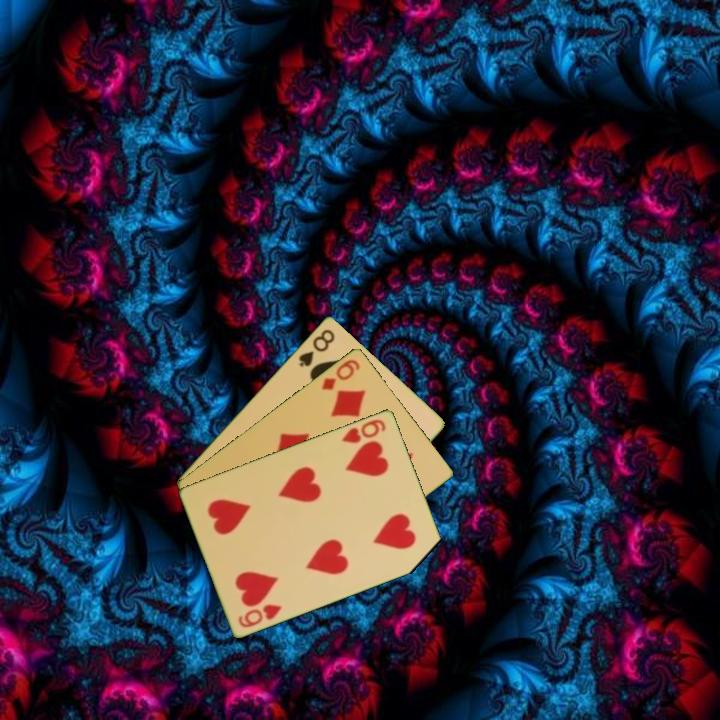6d: (318, 355, 363, 393)
6h: (339, 415, 389, 446), (235, 600, 285, 630)
8s: (295, 325, 338, 369)
